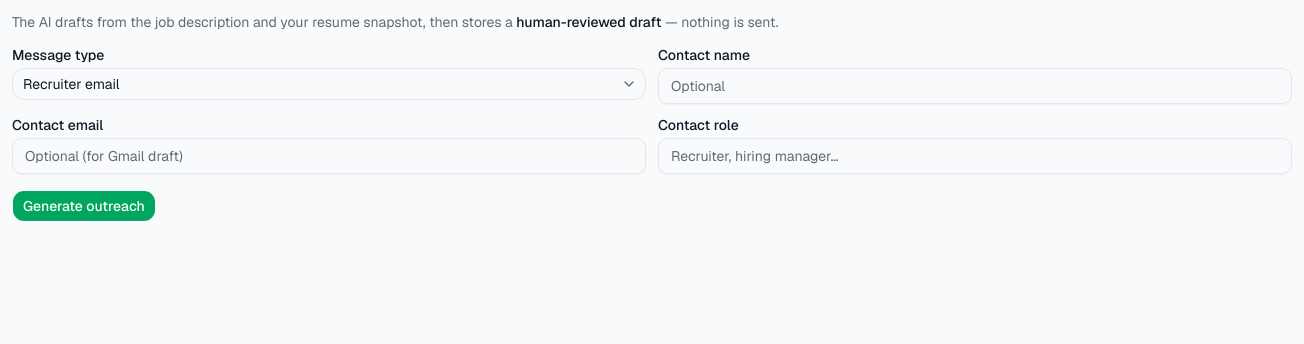
it: does not warn about length for a note within the limit
Click the dropdown named "message type". click: point(71, 84)
box: [12,68,646,100]
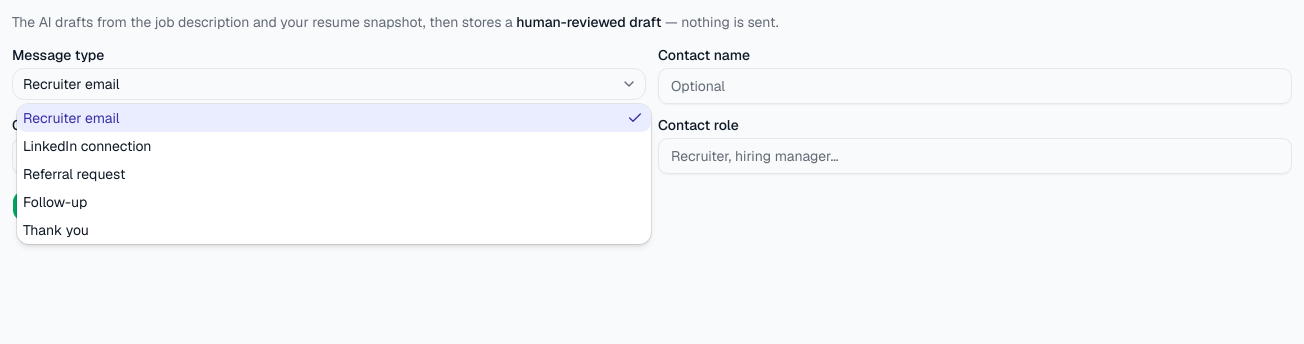
Click the option "LinkedIn connection". click: point(87, 146)
box: [23,137,152,155]
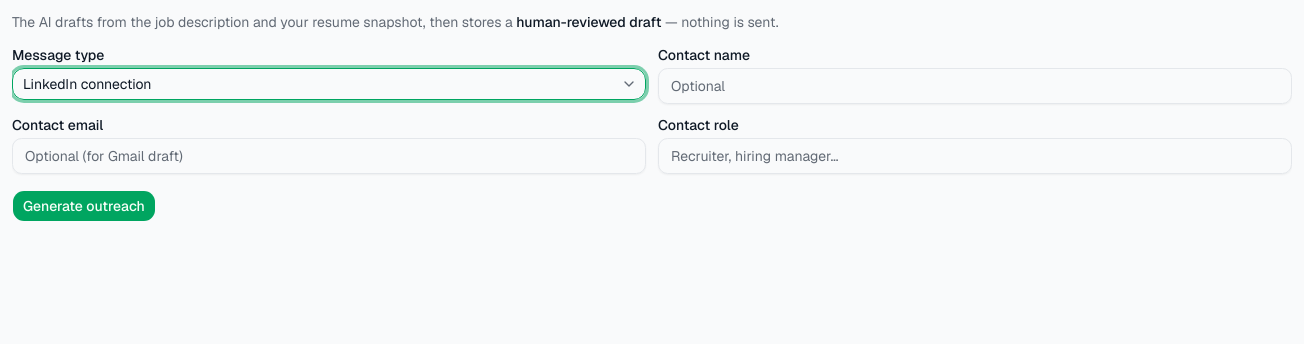
Click the button "Generate outreach". click: point(84, 206)
box: [12,190,156,222]
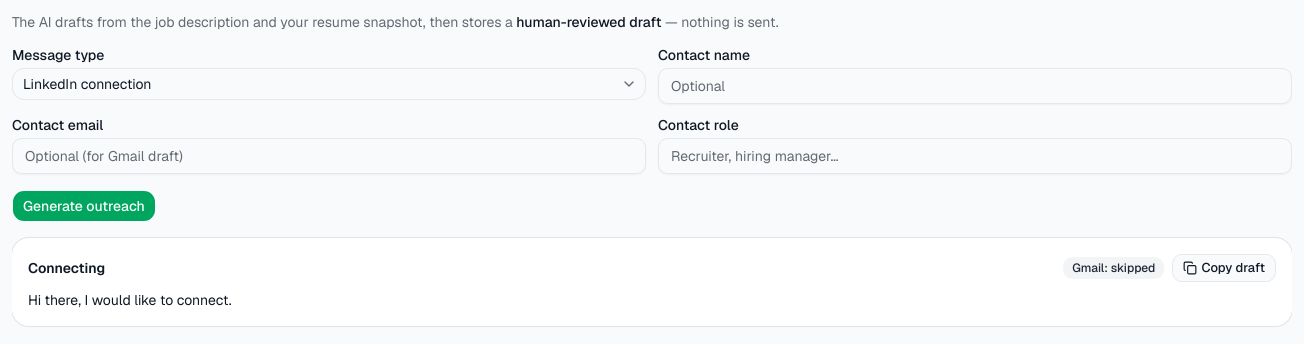
expect the text "Hi there, I would like to connect." is shown: met, box [28,291,232,309]
